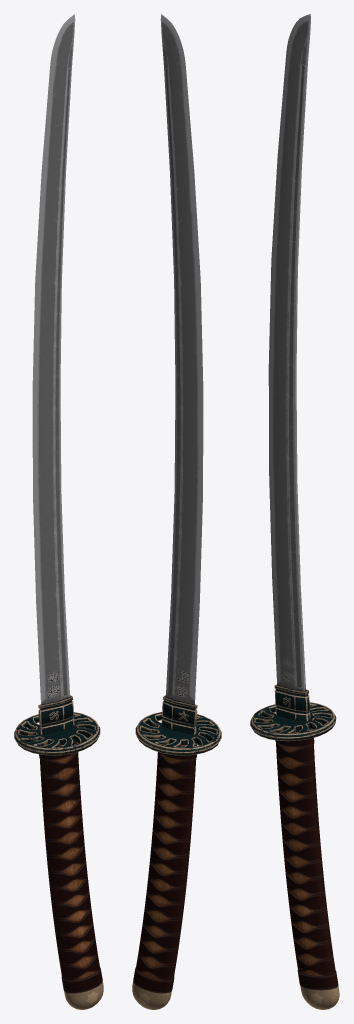
The model's file is katana-transformed.glb.
The picture shows the model from 3 angles, left to right: view 1: azimuth 30°, elevation 25°; view 2: azimuth 150°, elevation 25°; view 3: azimuth 330°, elevation 25°; orthographic projection.
Parts seen in each view (by area): view 1: Blade_low_Katana_0; view 2: Blade_low_Katana_0; view 3: Blade_low_Katana_0.
Part boxes in pixels (x1,y1,x2,y2): Blade_low_Katana_0: (14,14,103,1009); Blade_low_Katana_0: (132,14,221,1009); Blade_low_Katana_0: (250,14,339,1009).
Bounding box in the file's own units: 42.33 × 487 × 38.2.
Materials: 1 (1 with a texture image).
